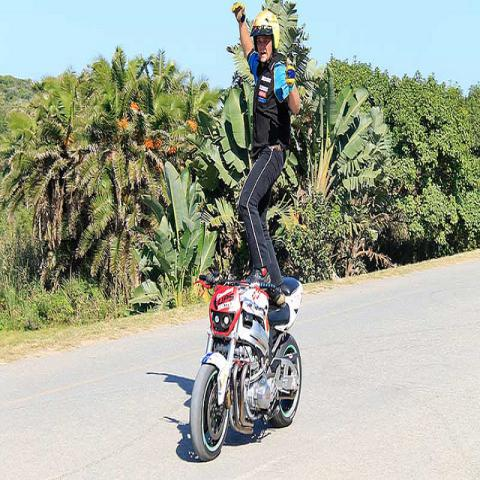motorcycle: (190, 268, 303, 462)
